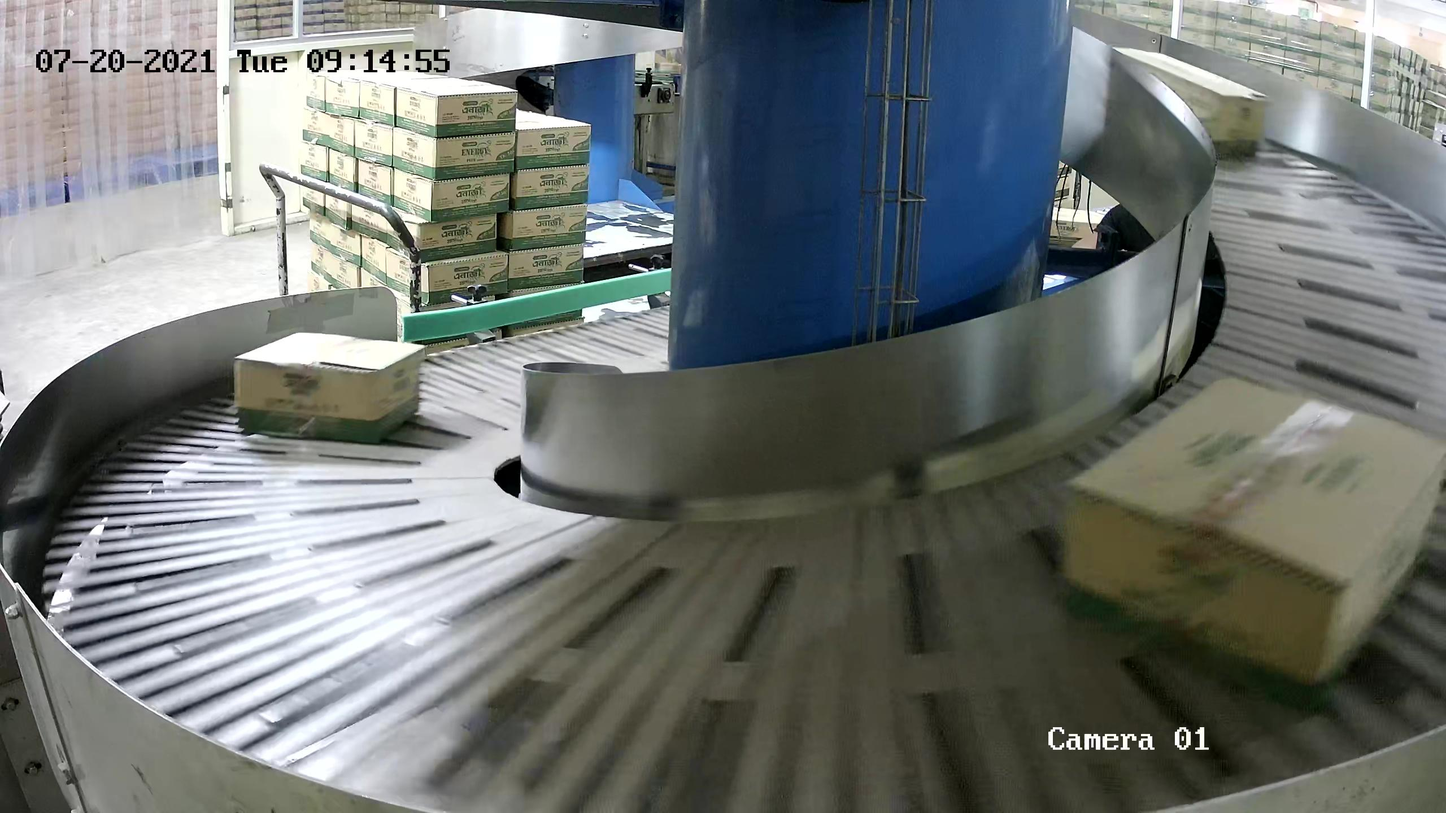Box: (1059, 373, 1446, 718), (233, 331, 426, 445), (1109, 46, 1267, 158)
